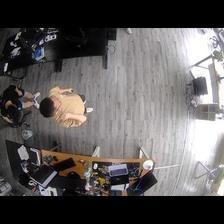normal: (40, 87, 94, 129), (1, 85, 41, 124)
